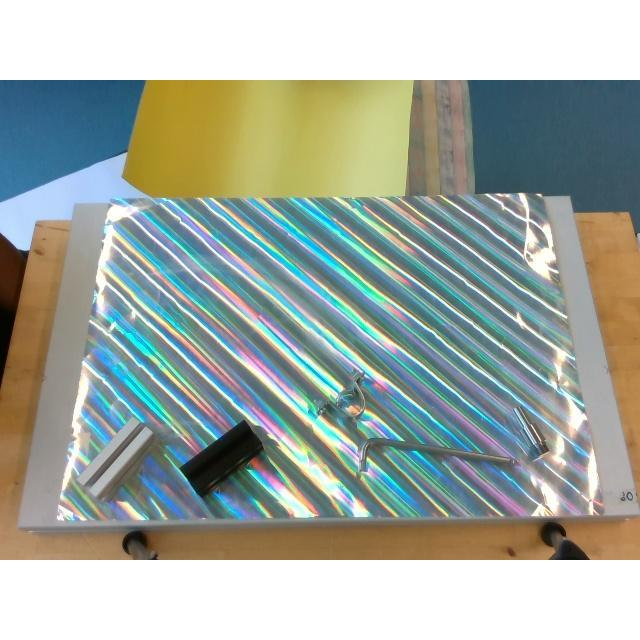AllenKey: (358, 438, 518, 472)
Axis2: (513, 405, 549, 459)
Housing: (318, 368, 367, 419)
S40_40_B: (180, 419, 264, 496)
S40_40_G: (78, 419, 156, 501)
